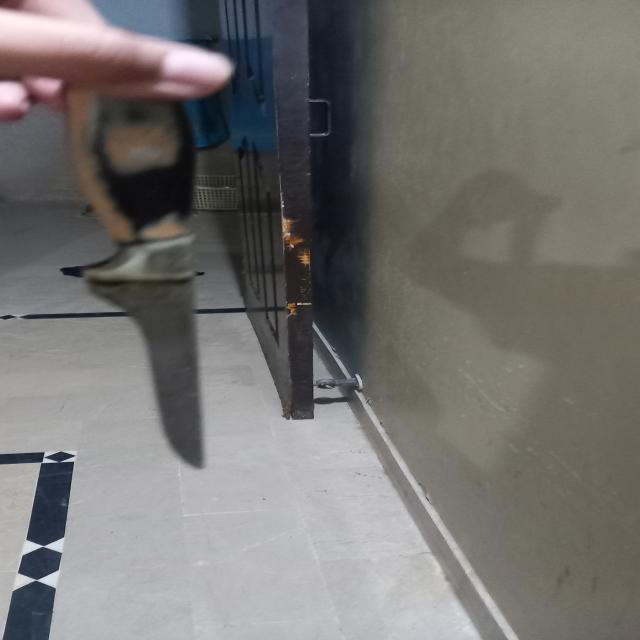weapon: (54, 74, 236, 473)
